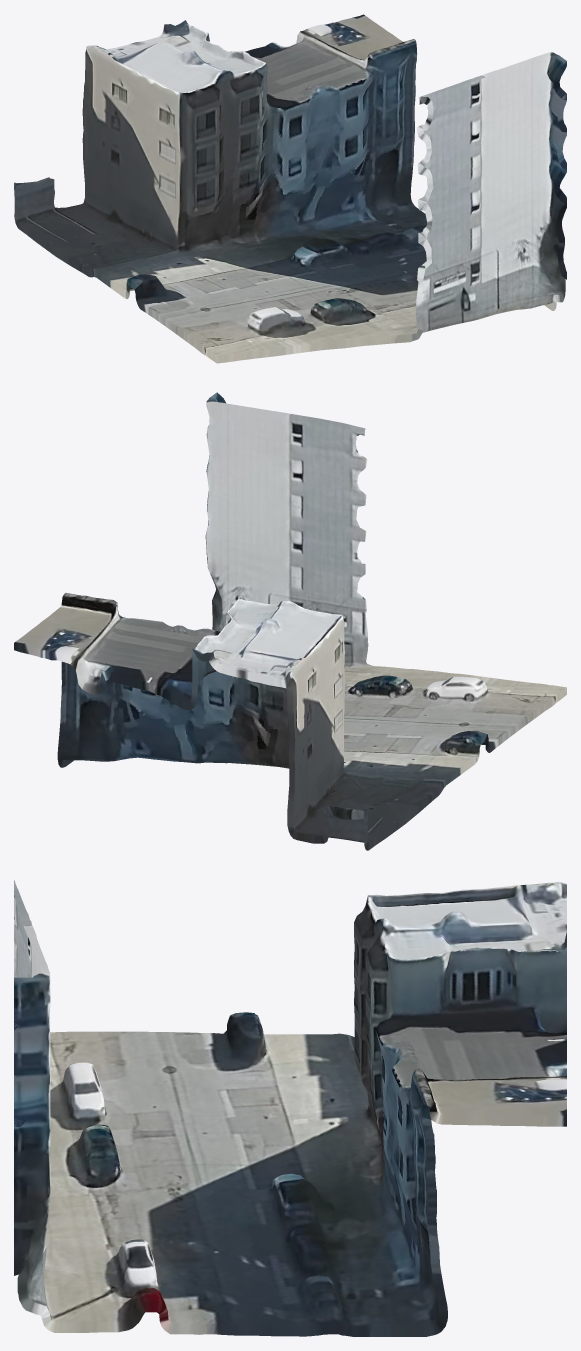
Rendered from z20-167729-405196-h0-yup-uvflip-v3-world.glb.
3 views of the same model, one above another, from view 1: azimuth 30°, elevation 25°; view 2: azimuth 150°, elevation 25°; view 3: azimuth 270°, elevation 25° (orthographic). The views are drawn at different scales.
Size of the model in its own units: 30.16 by 21.72 by 30.32.
Materials: 1 (1 with a texture image).
